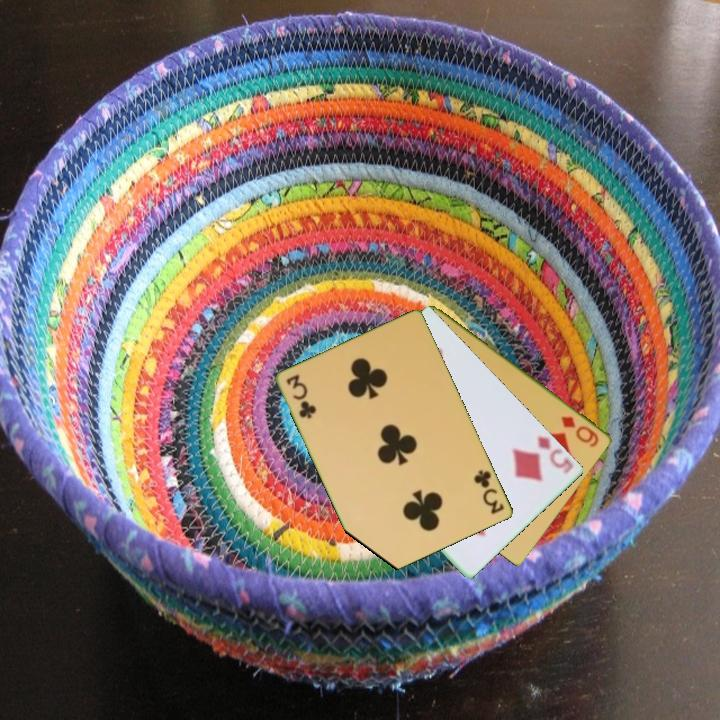3c: (470, 466, 507, 517), (283, 371, 319, 422)
5d: (533, 432, 577, 474)
6d: (558, 412, 602, 450)
